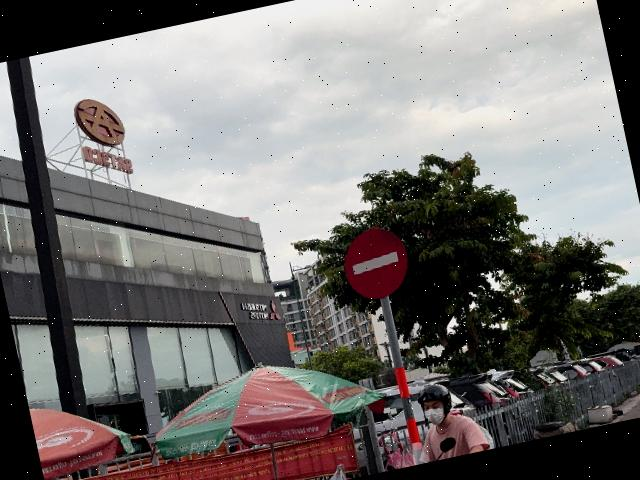cam-di-nguoc-chieu: (338, 223, 414, 305)
